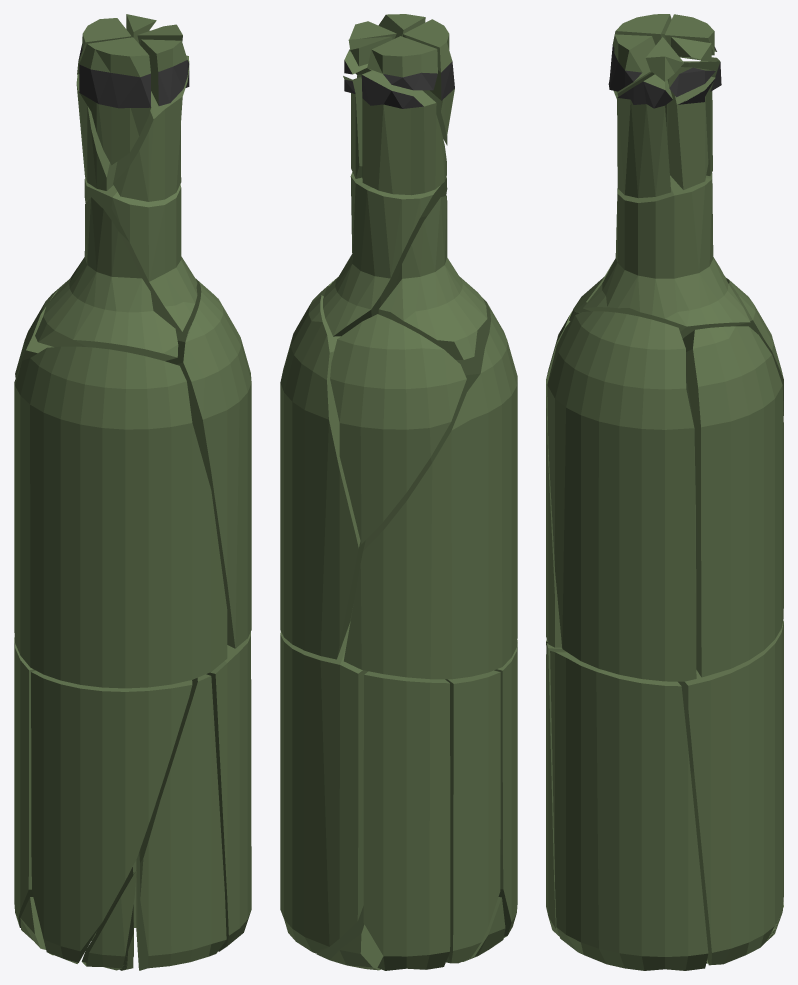
File: Bottle_Destructed.fbx
3 views of the same model, side by side, from view 1: azimuth 30°, elevation 25°; view 2: azimuth 150°, elevation 25°; view 3: azimuth 270°, elevation 25° (orthographic).
Parts seen in each view (by area): view 1: Flasche_cell.002, Flasche_cell.009, Flasche_cell.013, Flasche_cell.019, Flasche_cell.001, Flasche_cell.021, Flasche_cell.005, Flasche_cell.007, Flasche_cell.022, Flasche_cell.016, Flasche_cell.003, Flasche_cell.020 (+6 smaller); view 2: Flasche_cell.002, Flasche_cell, Flasche_cell.012, Flasche_cell.015, Flasche_cell.004, Flasche_cell.016, Flasche_cell.005, Flasche_cell.001, Flasche_cell.023, Flasche_cell.009, Flasche_cell.024, Flasche_cell.007 (+6 smaller); view 3: Flasche_cell.019, Flasche_cell.021, Flasche_cell.015, Flasche_cell.012, Flasche_cell.005, Flasche_cell.022, Flasche_cell.017, Flasche_cell.013, Flasche_cell.002, Flasche_cell.020, Flasche_cell.007, Flasche_cell.023 (+5 smaller).
Part boxes in pixels (x1,y1,x2,y2): Flasche_cell.002: [14, 346, 227, 688]; Flasche_cell.009: [31, 670, 192, 963]; Flasche_cell.013: [136, 674, 226, 970]; Flasche_cell.019: [165, 279, 251, 648]; Flasche_cell.001: [35, 197, 178, 360]; Flasche_cell.021: [192, 632, 251, 951]; Flasche_cell.005: [84, 178, 197, 331]; Flasche_cell.007: [79, 37, 151, 165]; Flasche_cell.022: [113, 55, 189, 201]; Flasche_cell.016: [14, 637, 35, 927]; Flasche_cell.003: [81, 870, 136, 970]; Flasche_cell.020: [140, 39, 189, 105]; Flasche_cell.002: [344, 298, 517, 679]; Flasche_cell: [363, 671, 450, 970]; Flasche_cell.012: [280, 621, 367, 953]; Flasche_cell.015: [280, 295, 365, 659]; Flasche_cell.004: [330, 314, 466, 544]; Flasche_cell.016: [445, 670, 500, 963]; Flasche_cell.005: [323, 172, 447, 336]; Flasche_cell.001: [378, 195, 487, 359]; Flasche_cell.023: [361, 70, 446, 195]; Flasche_cell.009: [494, 640, 517, 937]; Flasche_cell.024: [367, 36, 437, 90]; Flasche_cell.007: [403, 19, 454, 145]; Flasche_cell.019: [547, 311, 696, 681]; Flasche_cell.021: [550, 650, 708, 970]; Flasche_cell.015: [682, 326, 783, 677]; Flasche_cell.012: [678, 621, 783, 965]; Flasche_cell.005: [583, 173, 750, 337]; Flasche_cell.022: [617, 74, 672, 198]; Flasche_cell.017: [667, 76, 715, 189]; Flasche_cell.013: [546, 643, 564, 936]; Flasche_cell.002: [546, 311, 572, 647]; Flasche_cell.020: [608, 34, 655, 91]; Flasche_cell.007: [609, 14, 671, 98]; Flasche_cell.023: [665, 57, 721, 175].
Bounding box in the file's own units: 9.54 × 39.59 × 9.54.
